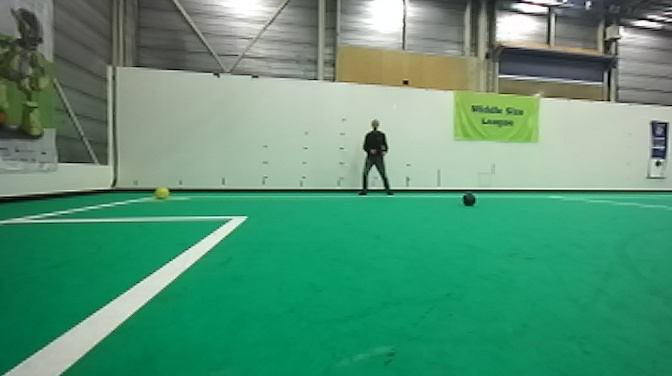ball: (461, 190, 479, 210), (154, 183, 172, 203)
human: (355, 114, 397, 197)
